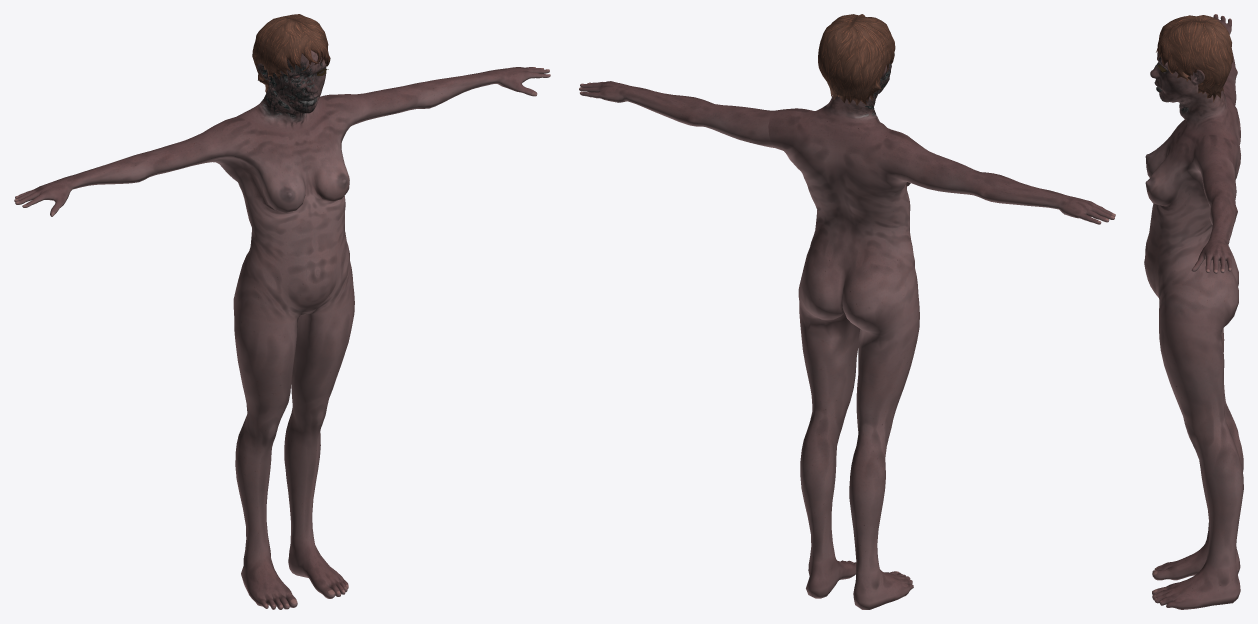
The model's file is pelucahombre4.obj.
The picture shows the model from 3 angles, left to right: view 1: azimuth 30°, elevation 25°; view 2: azimuth 150°, elevation 25°; view 3: azimuth 270°, elevation 25°; orthographic projection.
Visible parts, largest first — view 1: Body, Hair; view 2: Body, Hair; view 3: Body, Hair.
Boxes of the visible parts, <box> form: Body: <box>14,50,550,609</box>; Hair: <box>252,14,330,92</box>; Body: <box>579,63,1115,609</box>; Hair: <box>818,14,895,105</box>; Body: <box>1144,14,1243,609</box>; Hair: <box>1156,15,1232,102</box>.
Size of the model in its own units: 174 by 178 by 28.12.
2 materials, 2 textured.
